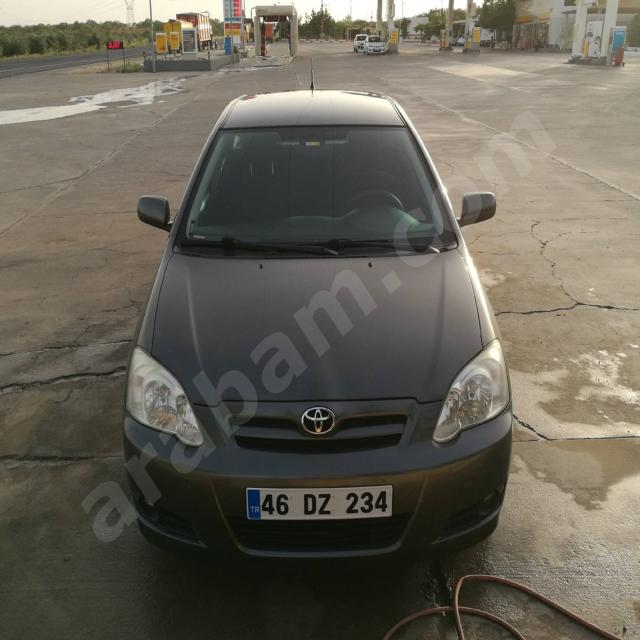license_plate: (246, 486, 392, 519)
